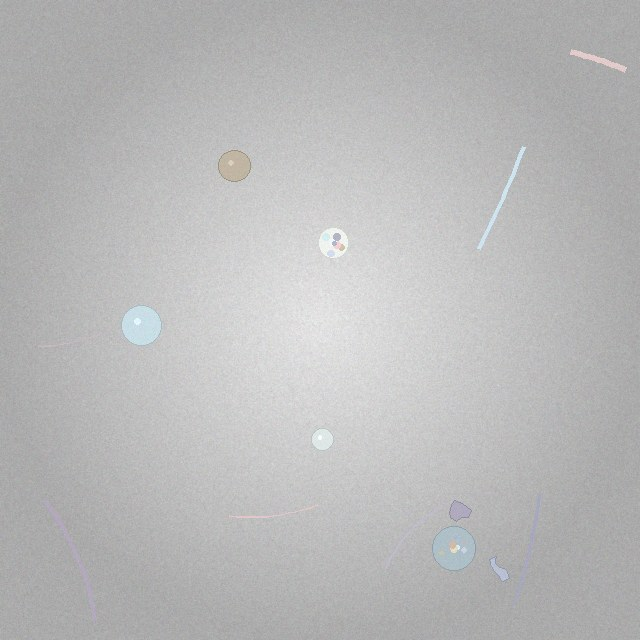fiber: (41, 498, 99, 625), (474, 143, 528, 254), (382, 498, 458, 571), (510, 491, 543, 608), (564, 45, 632, 75), (36, 326, 114, 350), (226, 503, 320, 521)
film: (490, 557, 509, 581)
foam: (432, 527, 475, 570), (318, 228, 349, 258)
fragment: (449, 500, 472, 522)
pellet: (121, 305, 161, 345), (219, 150, 250, 181), (311, 429, 333, 451)
